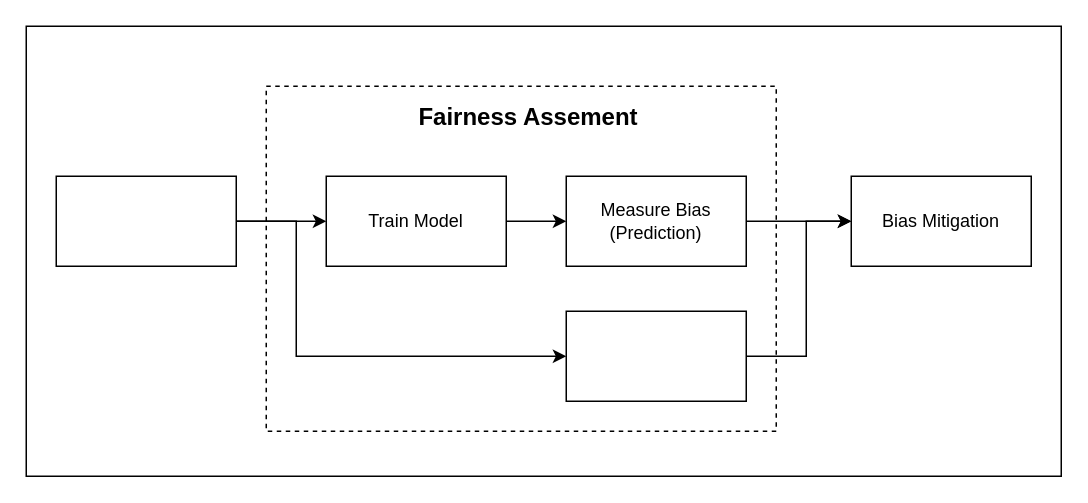
Some shapes in this 1088 by 503 pixel diagram are drawn without their labels. The shapes that lost their labels are listed below. From the top down, each one's centre as x and y in pixels, then its label:
At [145,220]: "Data".
At [655,355]: "Measure Bias (Data)".
